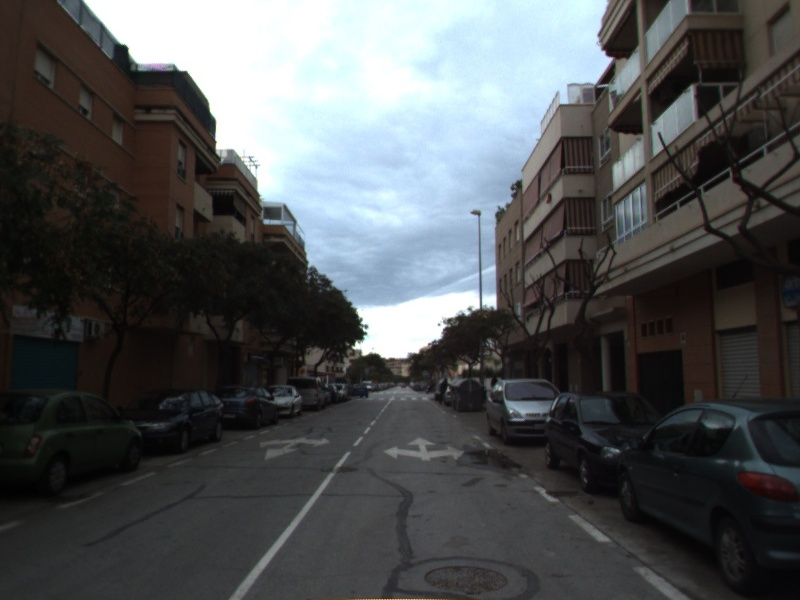STRAIGHT_LEFT_RIGHT: (381, 435, 467, 463)
